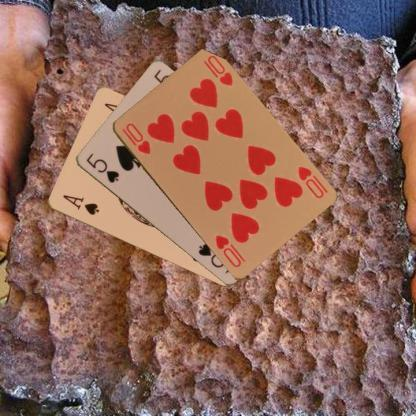10h: (119, 120, 152, 156), (294, 163, 324, 200)
5s: (83, 150, 120, 184)
As: (60, 192, 100, 216)
